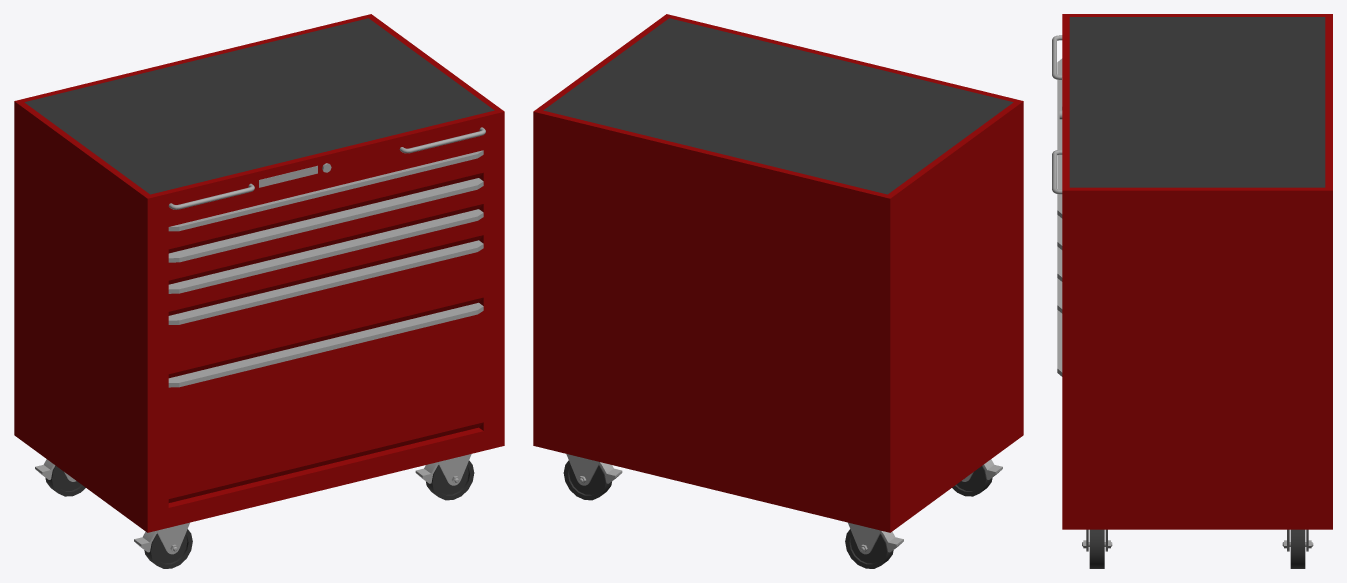
Rendered from Toolbox.obj.
The picture shows the model from 3 angles, left to right: view 1: azimuth 30°, elevation 25°; view 2: azimuth 150°, elevation 25°; view 3: azimuth 270°, elevation 25°; orthographic projection.
Visible parts, largest first — view 1: Mesh9 Group2 UC_091_1 Model, Mesh45 Group7 UC_091_1 Model, Mesh44 Group7 UC_091_1 Model, Mesh42 Group7 UC_091_1 Model, Mesh43 Group7 UC_091_1 Model, Mesh41 Group7 UC_091_1 Model, Mesh34 Group6 UC_091_1 Model, Mesh37 Group6 UC_091_1 Model, Mesh33 Group6 UC_091_1 Model, Mesh38 Group6 UC_091_1 Model, Mesh32 Group6 UC_091_1 Model, Mesh29 Group5 UC_091_1 Model (+2 smaller); view 2: Mesh9 Group2 UC_091_1 Model, Mesh22 Group4 UC_091_1 Model, Mesh5 Group1 UC_091_1 Model, Mesh15 Group3 UC_091_1 Model; view 3: Mesh9 Group2 UC_091_1 Model, Mesh32 Group6 UC_091_1 Model, Mesh29 Group5 UC_091_1 Model, Mesh22 Group4 UC_091_1 Model, Mesh34 Group6 UC_091_1 Model.
Boxes of the visible parts, box(x1,y1,x2,y2) form: Mesh9 Group2 UC_091_1 Model: box(14, 14, 504, 532); Mesh45 Group7 UC_091_1 Model: box(168, 311, 483, 502); Mesh44 Group7 UC_091_1 Model: box(168, 248, 483, 378); Mesh42 Group7 UC_091_1 Model: box(168, 217, 483, 315); Mesh43 Group7 UC_091_1 Model: box(168, 186, 483, 284); Mesh41 Group7 UC_091_1 Model: box(168, 155, 483, 253); Mesh34 Group6 UC_091_1 Model: box(168, 302, 483, 387); Mesh37 Group6 UC_091_1 Model: box(168, 178, 483, 262); Mesh33 Group6 UC_091_1 Model: box(168, 209, 483, 293); Mesh38 Group6 UC_091_1 Model: box(168, 240, 483, 324); Mesh32 Group6 UC_091_1 Model: box(168, 150, 483, 231); Mesh29 Group5 UC_091_1 Model: box(426, 460, 474, 500); Mesh9 Group2 UC_091_1 Model: box(533, 14, 1023, 532); Mesh22 Group4 UC_091_1 Model: box(563, 460, 611, 500); Mesh5 Group1 UC_091_1 Model: box(845, 529, 893, 568); Mesh15 Group3 UC_091_1 Model: box(952, 465, 992, 496); Mesh9 Group2 UC_091_1 Model: box(1062, 14, 1332, 529); Mesh32 Group6 UC_091_1 Model: box(1057, 58, 1062, 218); Mesh29 Group5 UC_091_1 Model: box(1089, 529, 1104, 568); Mesh22 Group4 UC_091_1 Model: box(1290, 529, 1305, 568); Mesh34 Group6 UC_091_1 Model: box(1057, 310, 1062, 376).
Bounding box in the file's own units: 0.85 × 0.885 × 0.5705.
